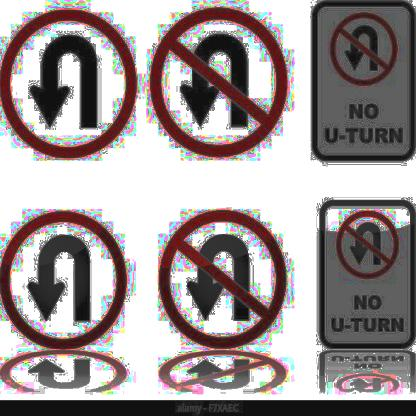U-turn: (0, 198, 131, 354), (0, 9, 134, 155)
